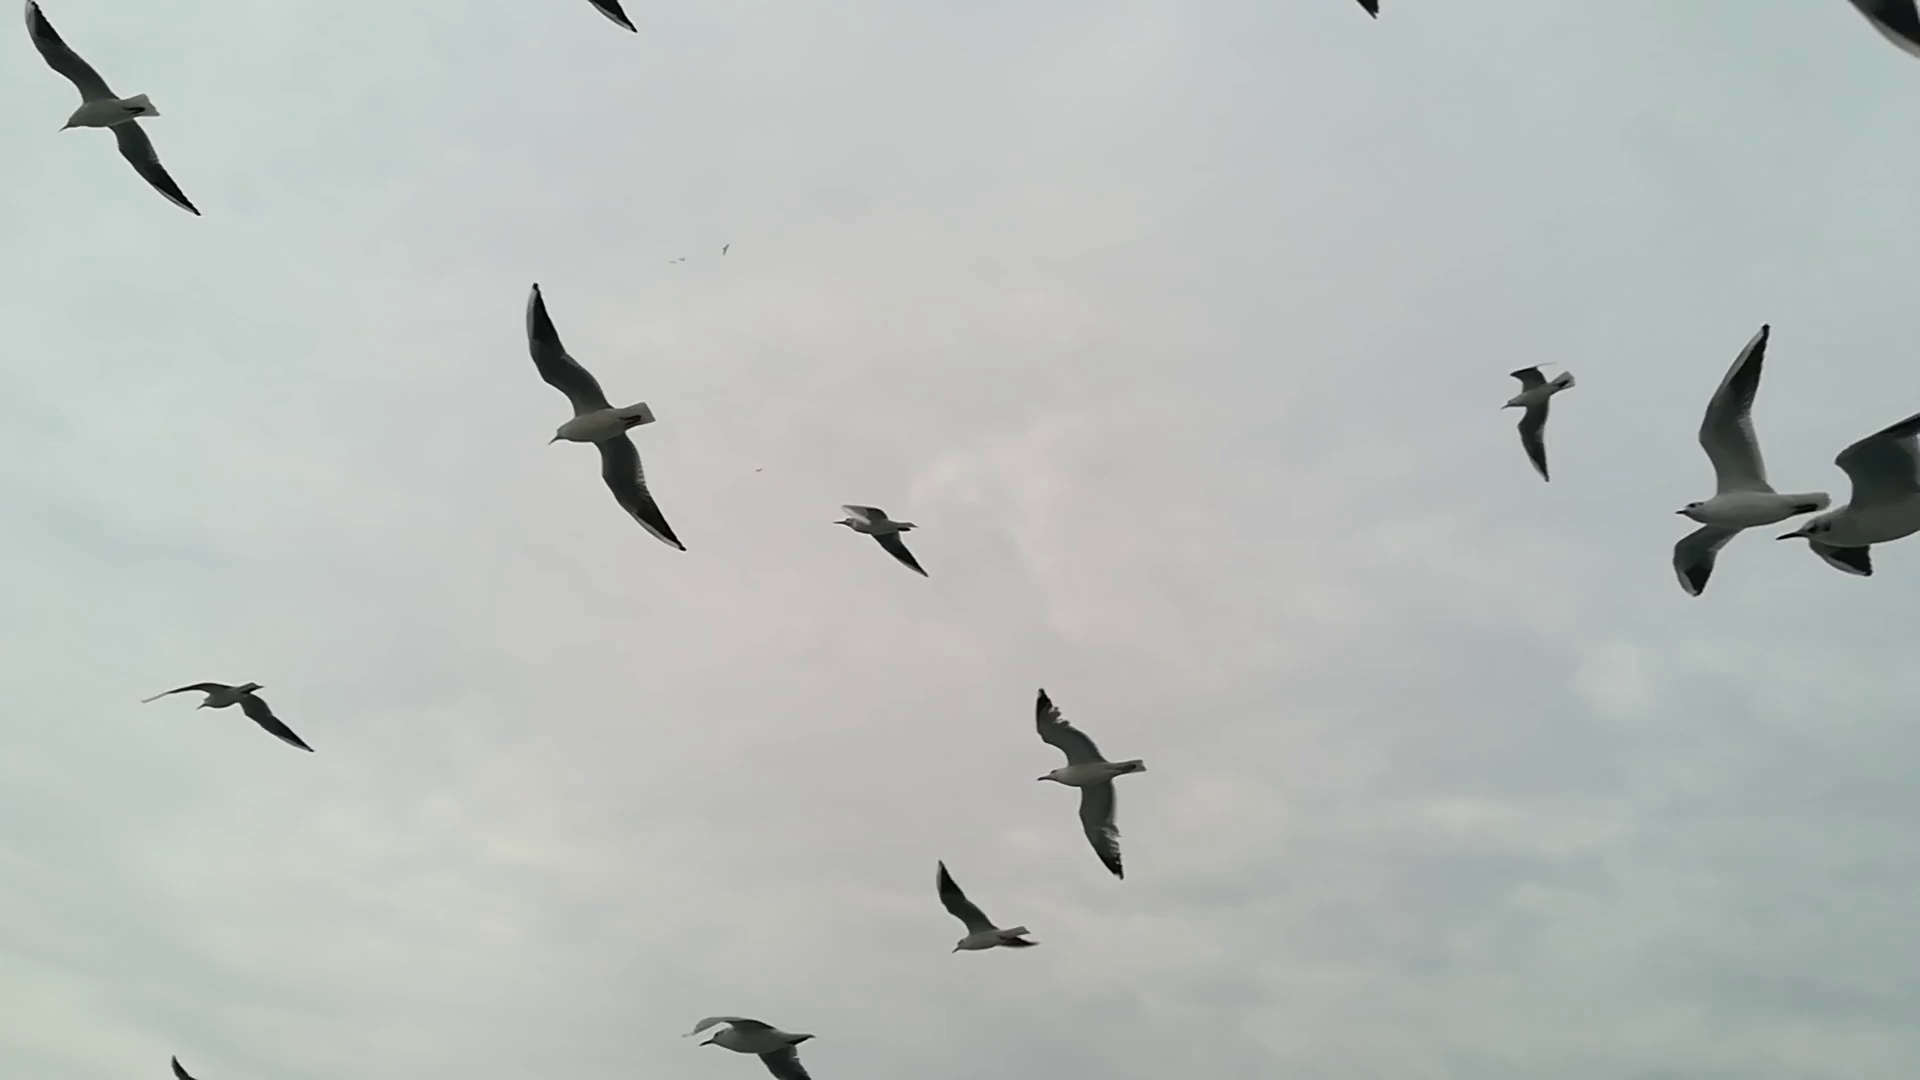bird: (520, 280, 691, 553), (1668, 319, 1828, 603), (25, 1, 202, 222), (1776, 411, 1919, 576), (1029, 686, 1147, 881), (140, 680, 313, 752), (934, 860, 1039, 953), (683, 1015, 823, 1079), (1501, 356, 1572, 477), (833, 501, 934, 578)
